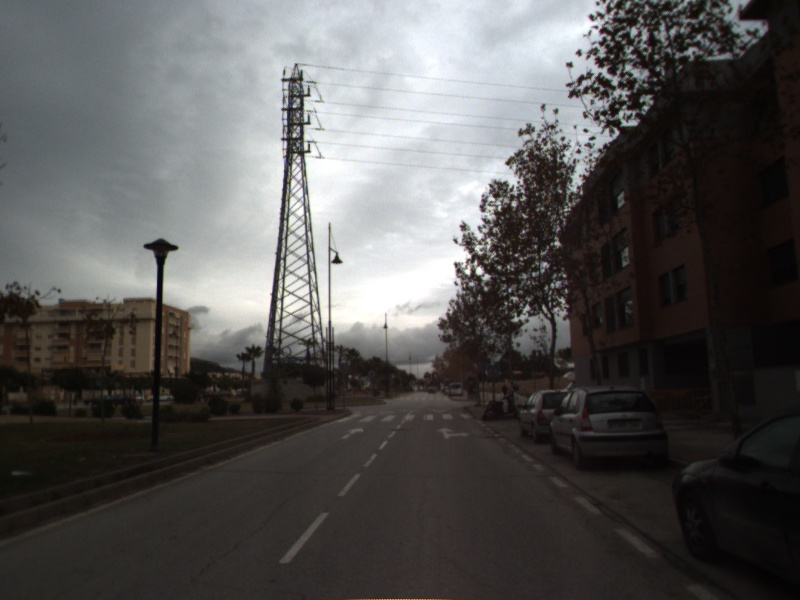STRAIGHT: (338, 425, 366, 441)
STRAIGHT_RIGHT: (434, 424, 472, 442)
